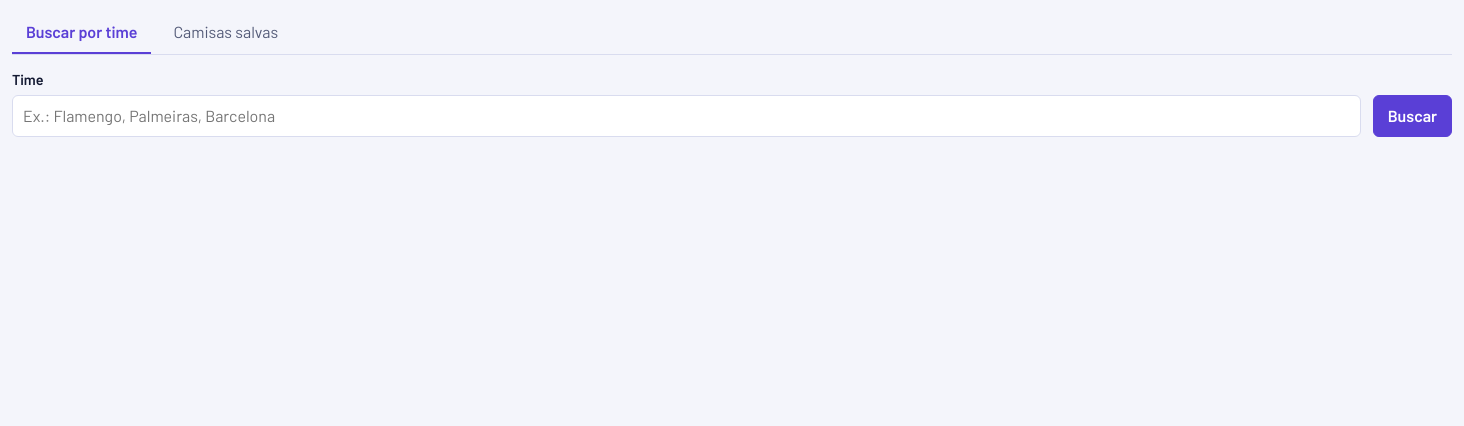
Scenario: CatalogSearch (FR-006, FR-008) › aba "camisas salvas" lista as camisas guardadas localmente
Click the tab "Camisas salvas" at (226,33), box x1=159 y1=12 x2=292 y2=54
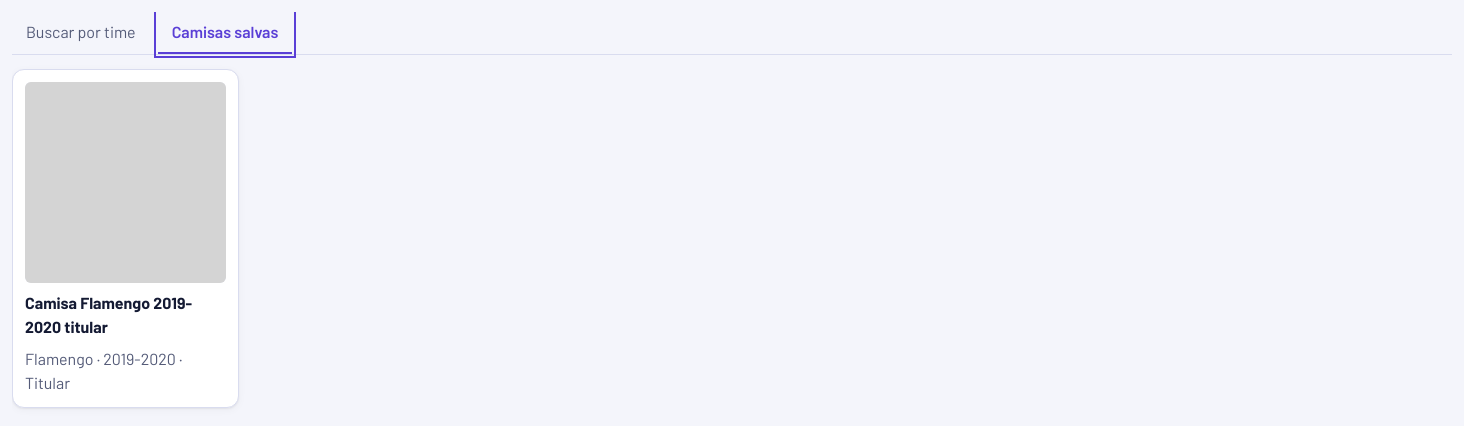
Now the text "Camisa Flamengo 2019-2020 titular" is shown, box x1=25 y1=293 x2=192 y2=336
